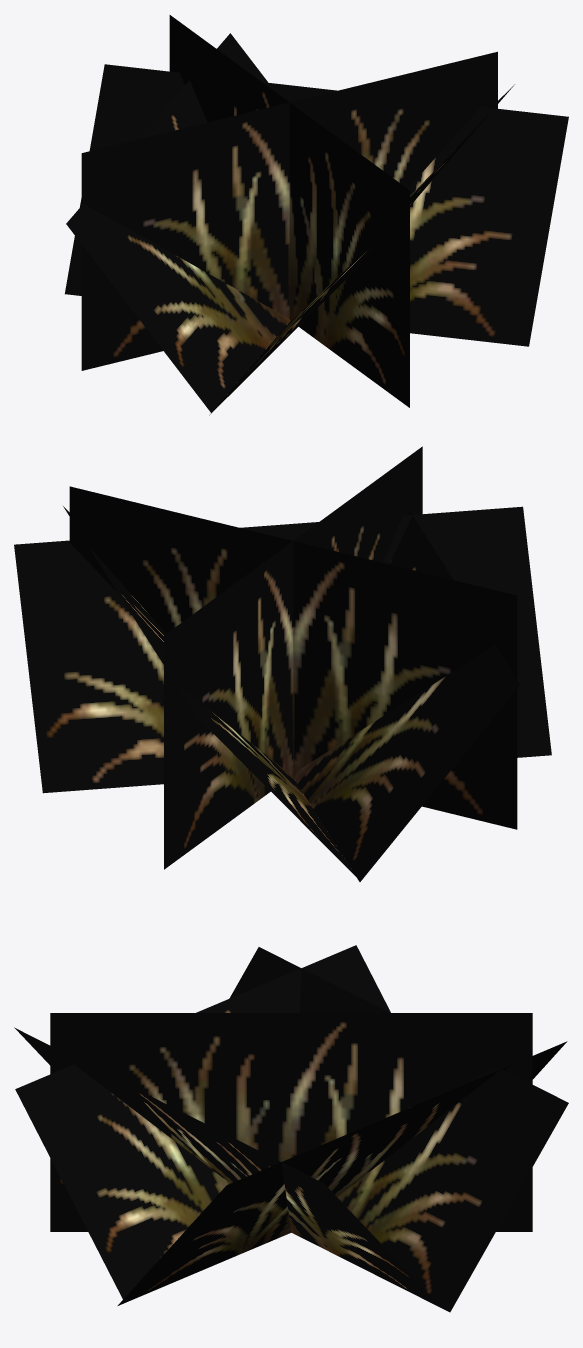
File: OZ_02_mi_Eweed01A.glb
3 renders of one model, top to bottom at view 1: azimuth 30°, elevation 25°; view 2: azimuth 150°, elevation 25°; view 3: azimuth 270°, elevation 25°, orthographic. The views are drawn at different scales.
Parts seen in each view (by area): view 1: OM_02_mi_Eweed01A; view 2: OM_02_mi_Eweed01A; view 3: OM_02_mi_Eweed01A.
Part boxes in pixels (x1,y1,x2,y2): OM_02_mi_Eweed01A: (65, 15, 568, 415); OM_02_mi_Eweed01A: (14, 446, 551, 881); OM_02_mi_Eweed01A: (14, 945, 568, 1312).
Bounding box in the file's own units: 1.48 × 0.6286 × 1.45.
Materials: 1 (1 with a texture image).
